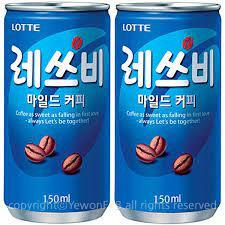letsbe: (5, 2, 110, 222), (117, 3, 221, 222)
